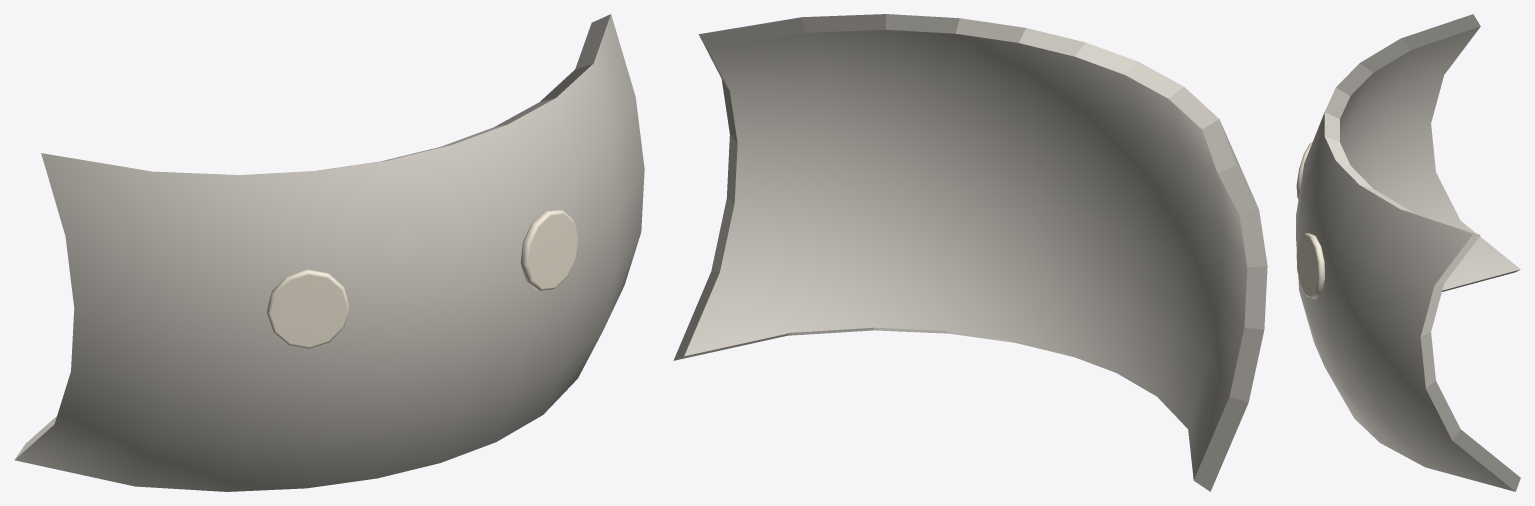
The model's file is facial_mask.glb.
The picture shows the model from 3 angles, left to right: view 1: azimuth 30°, elevation 25°; view 2: azimuth 150°, elevation 25°; view 3: azimuth 270°, elevation 25°; orthographic projection. The views are drawn at different scales.
Visible parts, largest first — view 1: facial_mask_Head; view 2: facial_mask_Head; view 3: facial_mask_Head.
Part boxes in pixels (left/top/right/bottom): facial_mask_Head: left=14, top=14, right=644, bottom=491; facial_mask_Head: left=673, top=14, right=1267, bottom=491; facial_mask_Head: left=1296, top=14, right=1520, bottom=491.
Size of the model in its own units: 0.5474 by 0.2997 by 0.2365.
